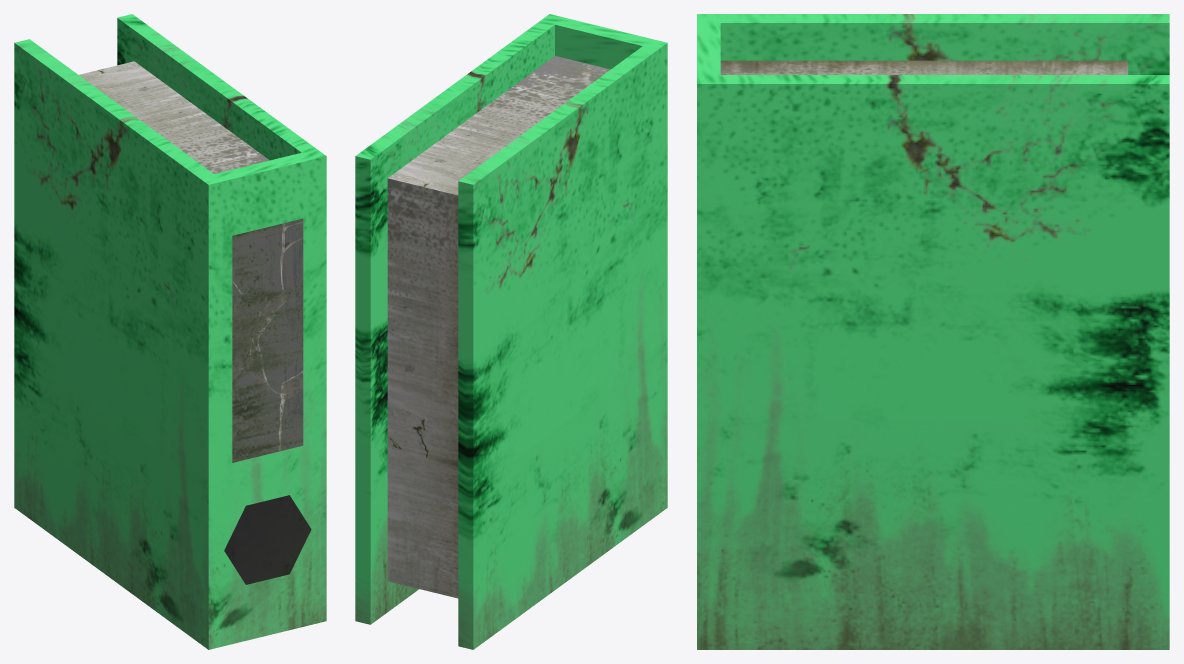
File: folder_02.fbx
The picture shows the model from 3 angles, left to right: view 1: azimuth 30°, elevation 25°; view 2: azimuth 150°, elevation 25°; view 3: azimuth 270°, elevation 25°; orthographic projection. The views are drawn at different scales.
Parts seen in each view (by area): view 1: folder_02; view 2: folder_02; view 3: folder_02.
Part boxes in pixels (x1=…): folder_02: x1=14, y1=14, x2=326, y2=649; folder_02: x1=355, y1=14, x2=667, y2=649; folder_02: x1=697, y1=14, x2=1169, y2=649.
Size of the model in its own units: 0.07 by 0.2636 by 0.1997.
